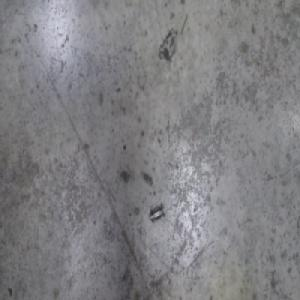Bolt: (148, 203, 165, 223)
